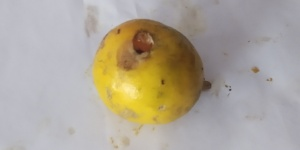BAD: (92, 21, 206, 123)
